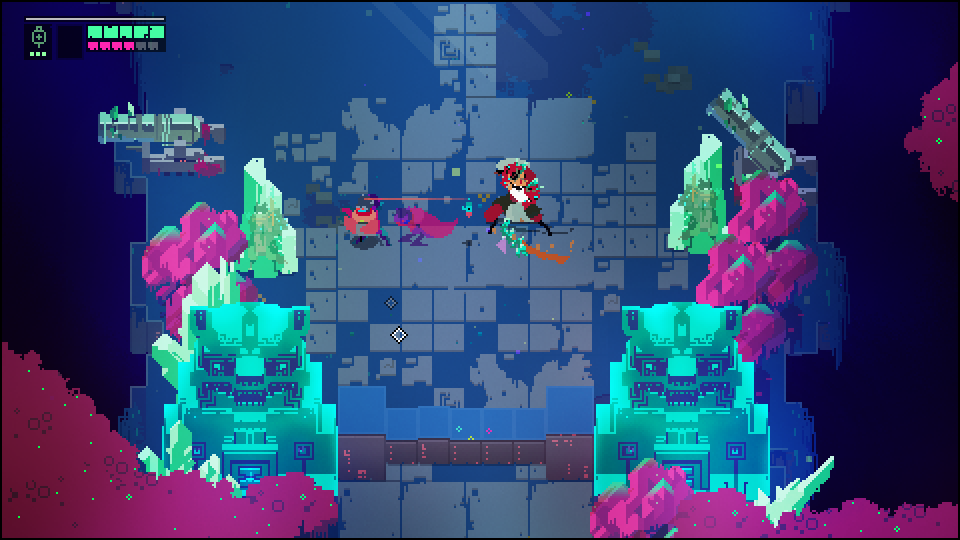hanged_man: (474, 146, 556, 253)
player: (338, 195, 390, 249)
